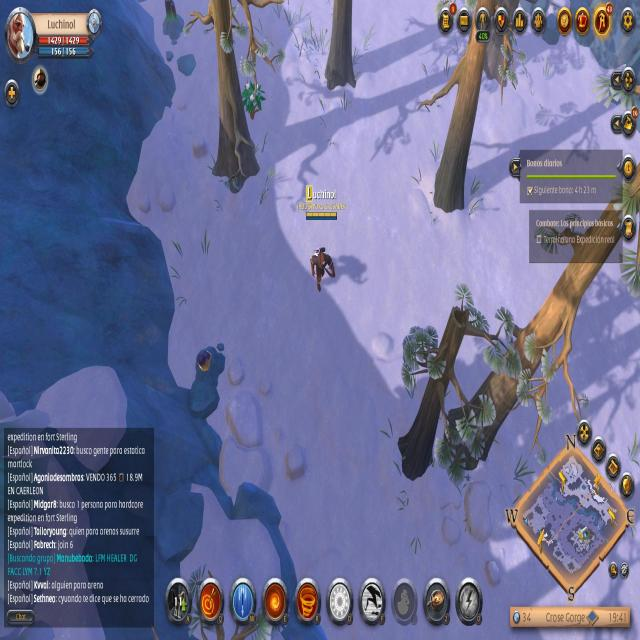piedra_cobre: (194, 348, 223, 391)
